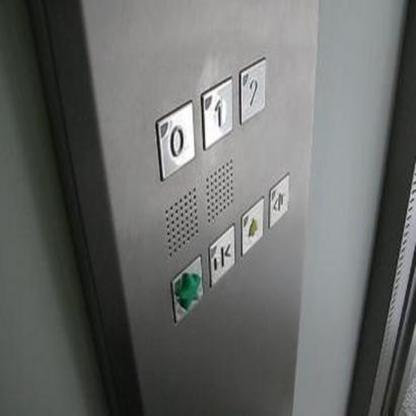0: (153, 98, 196, 180)
1: (200, 75, 233, 149)
2: (238, 53, 268, 126)
alarm: (240, 196, 262, 256)
close: (208, 223, 236, 287)
open: (269, 172, 289, 229)
unknown: (171, 255, 203, 322)
